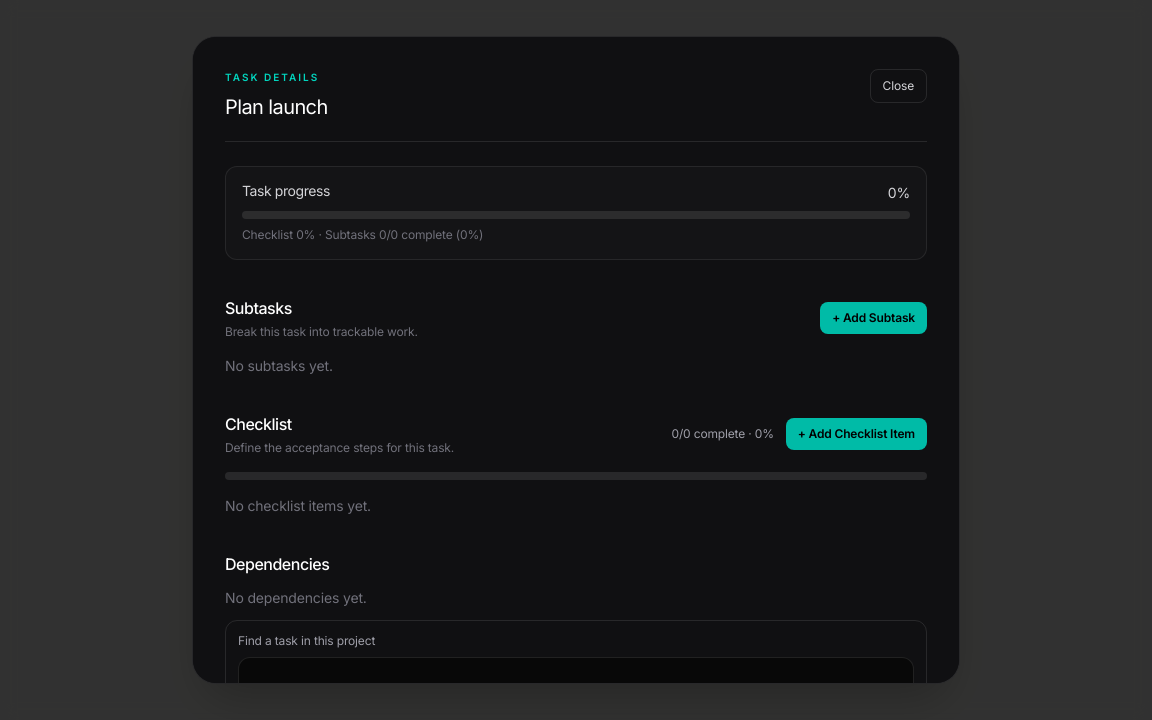
task details GraphQL integration › adds a checklist item from the visible manager action
Expected: the text "No checklist items yet." is shown, [225, 497, 371, 514]
Expected: the text "Checklist 0% · Subtasks 0/0 complete (0%)" is shown, [242, 227, 483, 242]
Click the button "+ Add Checklist Item". click: (856, 434)
box: [786, 418, 927, 450]
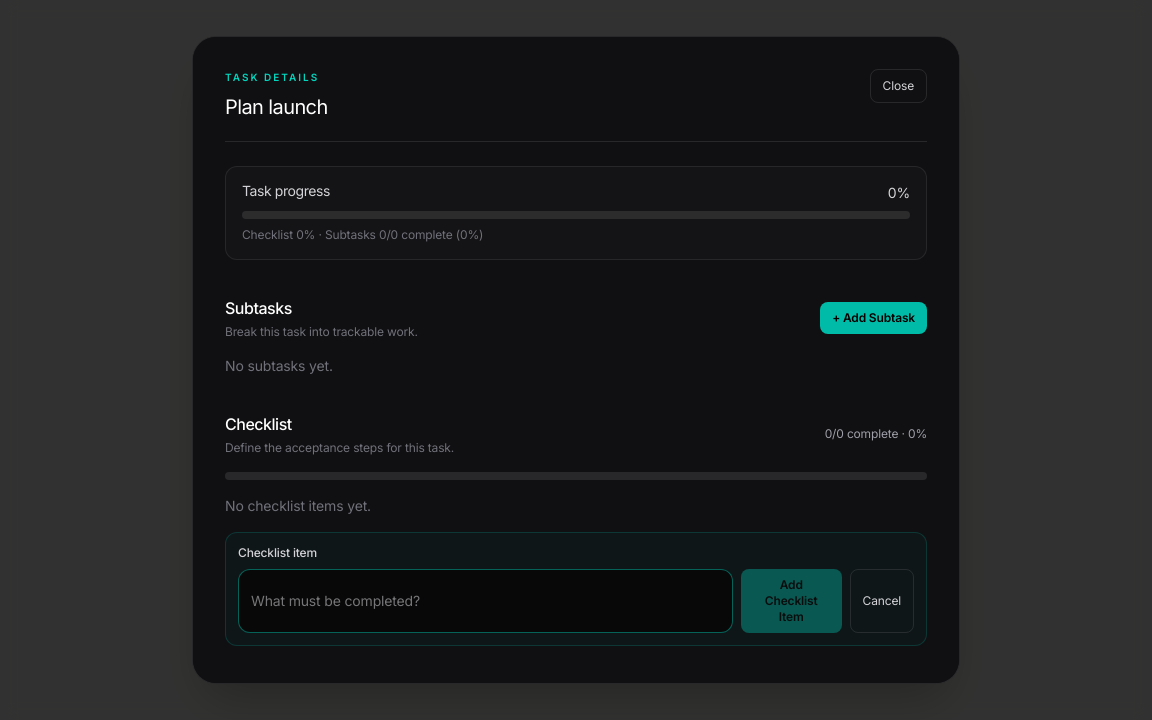
Type "Approve copy" into the field named "New checklist item". click: (485, 601)
box: [238, 569, 733, 633]
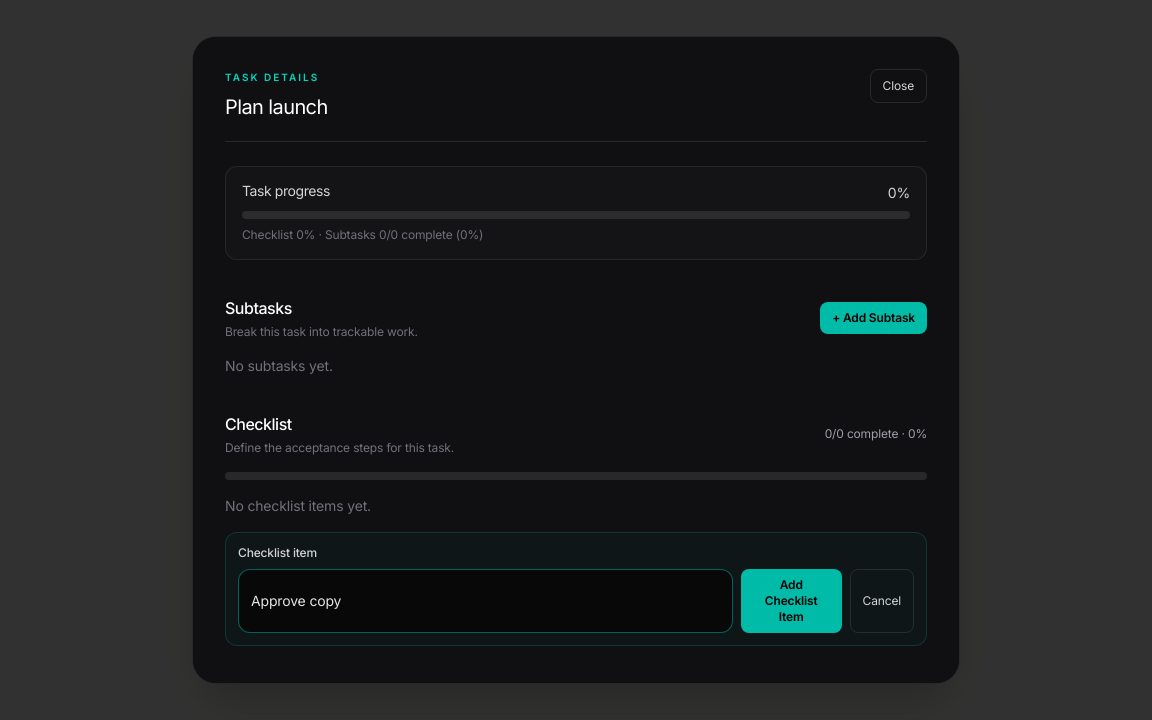
Click the button "Add Checklist Item". click: (791, 601)
box: [741, 569, 842, 633]
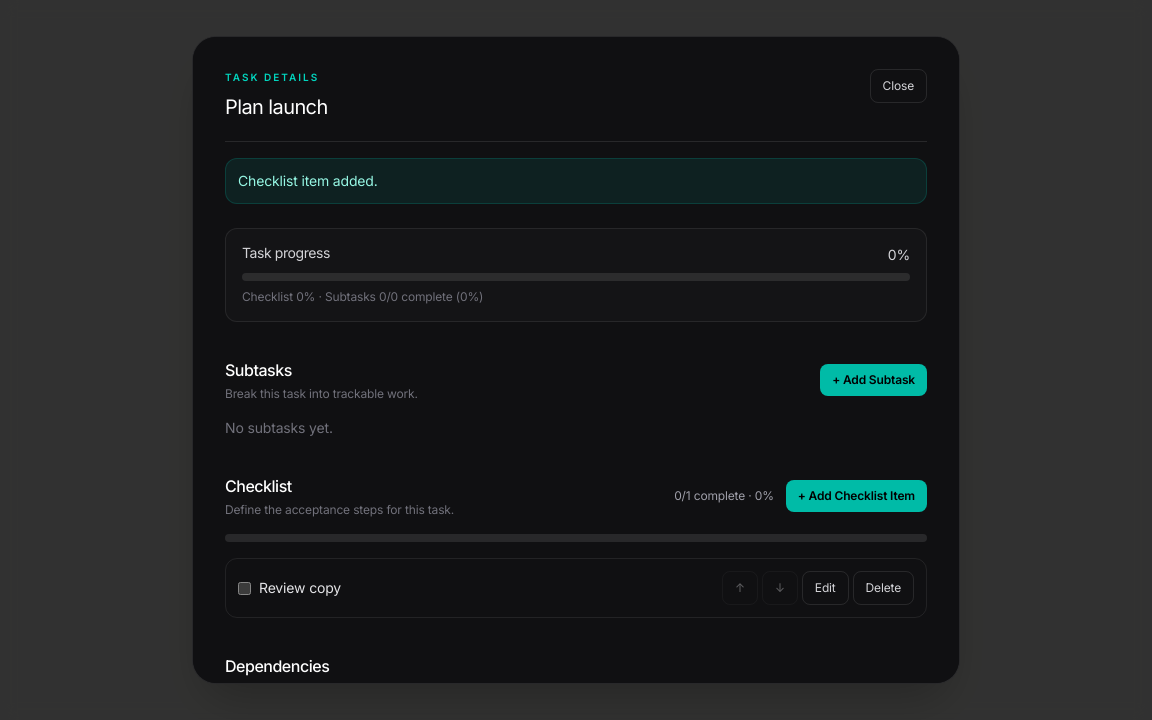
Now the checkbox named "Complete Review copy" is shown, box [238, 582, 251, 594]
Now the text "Checklist item added." is shown, box [225, 158, 927, 204]
